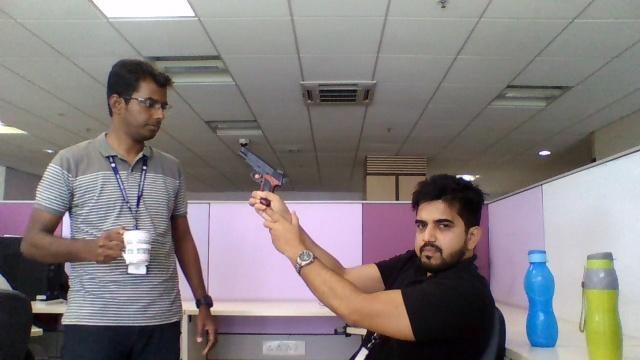gun: (237, 148, 291, 196)
